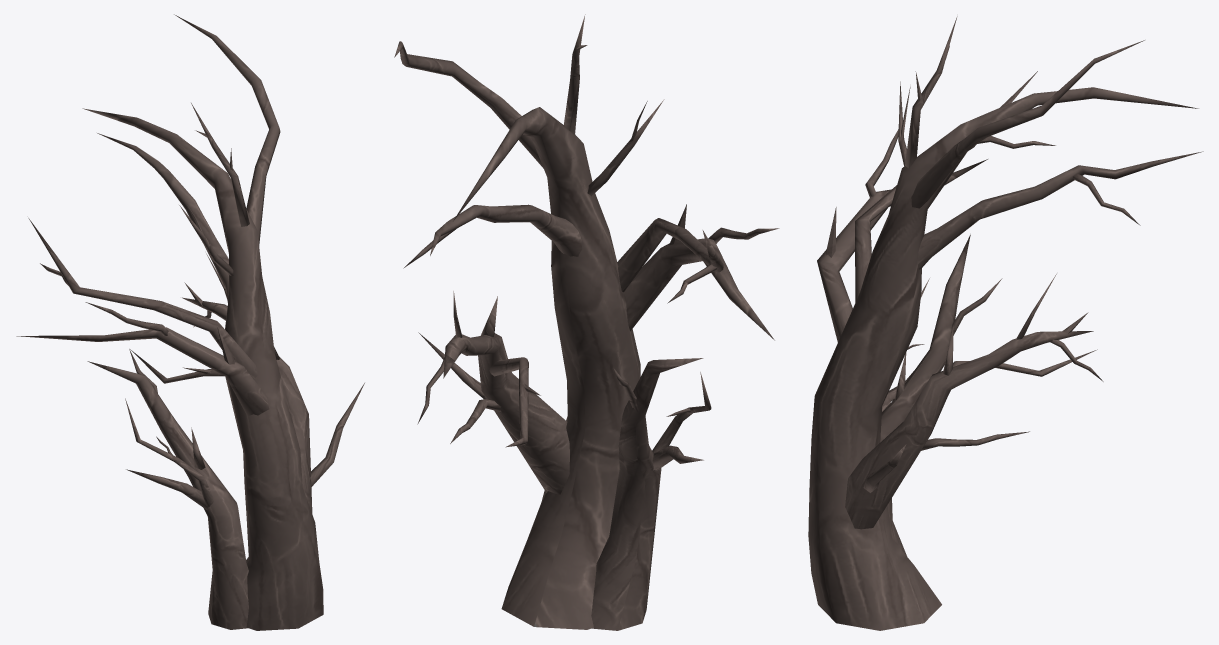
Rendered from SM_TreeBig.fbx.
The picture shows the model from 3 angles, left to right: view 1: azimuth 30°, elevation 25°; view 2: azimuth 150°, elevation 25°; view 3: azimuth 270°, elevation 25°; orthographic projection. The views are drawn at different scales.
Visible parts, largest first — view 1: SM_TreeBig; view 2: SM_TreeBig; view 3: SM_TreeBig.
Boxes of the visible parts, x1,y1,x2,y2 form: SM_TreeBig: (16,14,364,630); SM_TreeBig: (394,14,779,630); SM_TreeBig: (808,16,1203,630).
Size of the model in its own units: 177 by 272 by 169.
